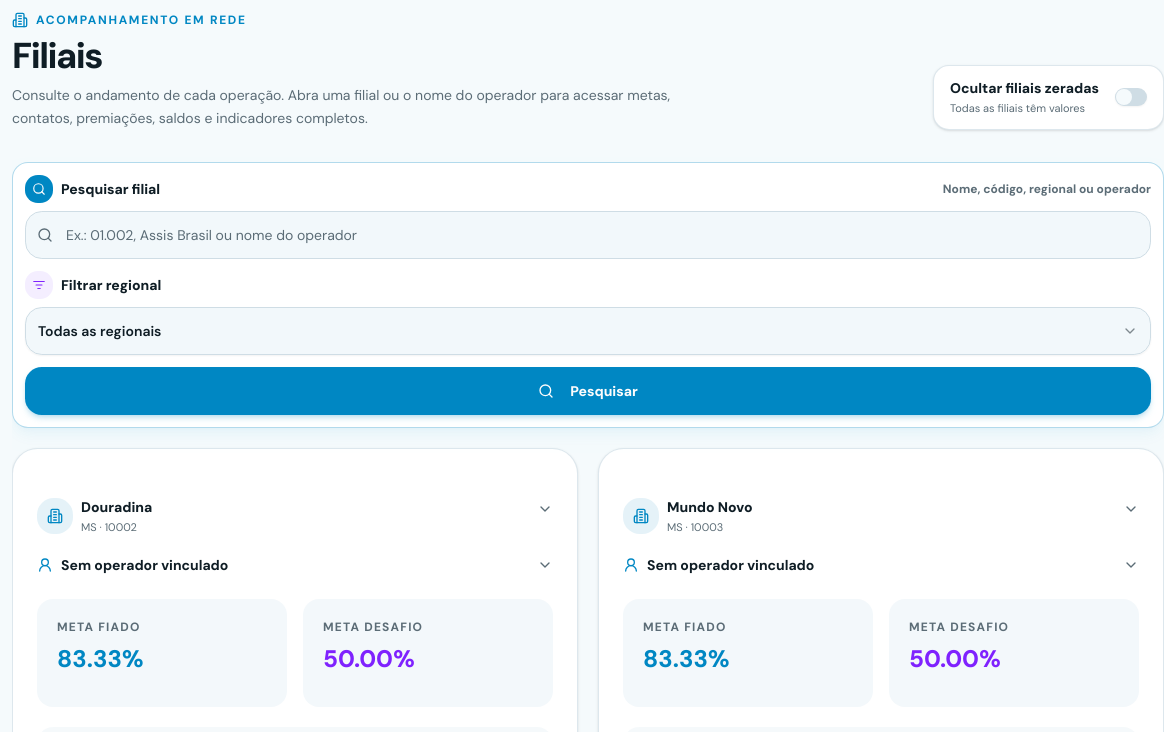
it: botão de pesquisa de Filiais › mantém o acesso de pesquisa identificado e filtra imediatamente durante a digitação
Expected: the form is shown, 12,162 -> 1163,428
Expected: the text "Pesquisar filial" is shown, 25,174 -> 160,202
Type "Mundo" into the search field labelled "Pesquisar filial".
click(588, 234); type("Mundo")  # box 25,210 -> 1151,258
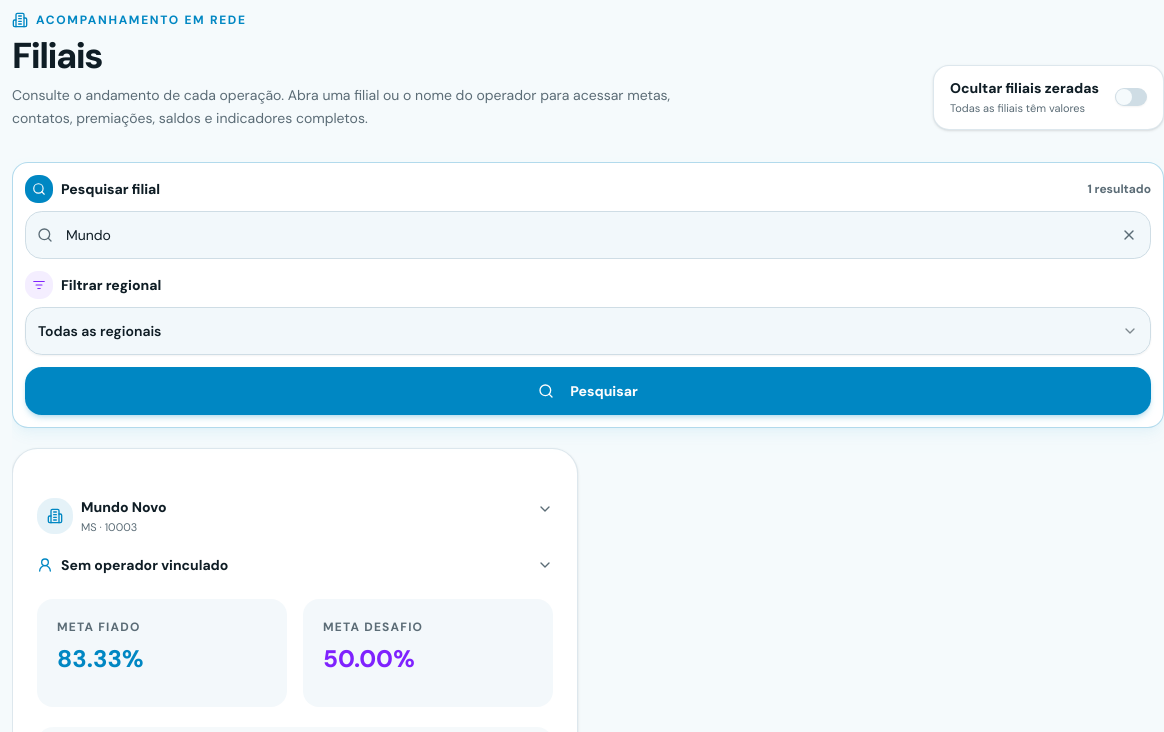
Expected: the text "Mundo Novo" is shown, 81,496 -> 167,516
Now the button "Douradina" is gone
